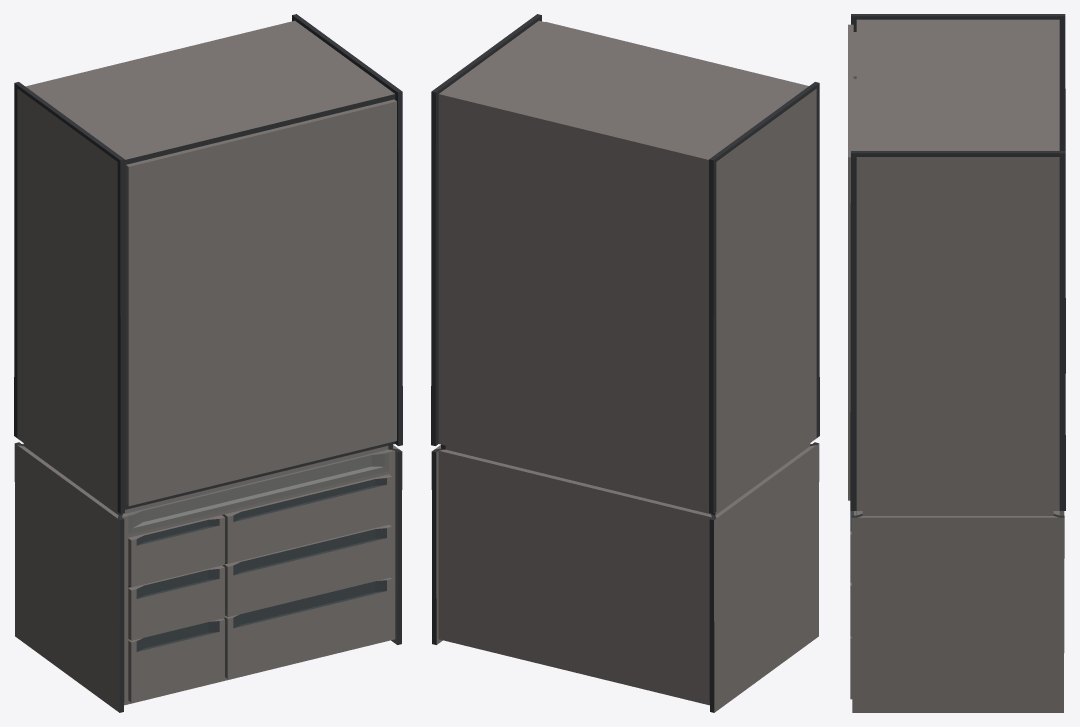
File: modernrefrigerator_01_A.gltf
The picture shows the model from 3 angles, left to right: view 1: azimuth 30°, elevation 25°; view 2: azimuth 150°, elevation 25°; view 3: azimuth 270°, elevation 25°; orthographic projection.
Visible parts, largest first — view 1: modernrefrigerator_01_A, rightdoorofamodernrefrigerator_01_A, Leftdoorofamodernrefrigerator_01_A, pulloutrefrigeratorshelfright_01_03_A, pulloutrefrigeratorshelfright_01_02_A, pulloutrefrigeratorshelfright_01_01_A, pulloutrefrigeratorshelfleft_01_03_A, pulloutrefrigeratorshelfleft_01_02_A, pulloutrefrigeratorshelfleft_01_01_A; view 2: modernrefrigerator_01_A; view 3: modernrefrigerator_01_A, rightdoorofamodernrefrigerator_01_A, Leftdoorofamodernrefrigerator_01_A.
Part boxes in pixels (x1,y1,x2,y2): modernrefrigerator_01_A: [14, 14, 402, 712]; rightdoorofamodernrefrigerator_01_A: [225, 99, 396, 482]; Leftdoorofamodernrefrigerator_01_A: [126, 140, 226, 506]; pulloutrefrigeratorshelfright_01_03_A: [223, 577, 392, 678]; pulloutrefrigeratorshelfright_01_02_A: [222, 524, 392, 617]; pulloutrefrigeratorshelfright_01_01_A: [222, 474, 392, 563]; pulloutrefrigeratorshelfleft_01_03_A: [128, 618, 224, 702]; pulloutrefrigeratorshelfleft_01_02_A: [128, 565, 224, 640]; pulloutrefrigeratorshelfleft_01_01_A: [128, 515, 224, 587]; modernrefrigerator_01_A: [431, 14, 819, 712]; modernrefrigerator_01_A: [850, 14, 1065, 712]; rightdoorofamodernrefrigerator_01_A: [848, 73, 856, 500]; Leftdoorofamodernrefrigerator_01_A: [848, 24, 856, 78].
Bounding box in the file's own units: 1.3 × 2.43 × 0.859.
1 material, 1 textured.
